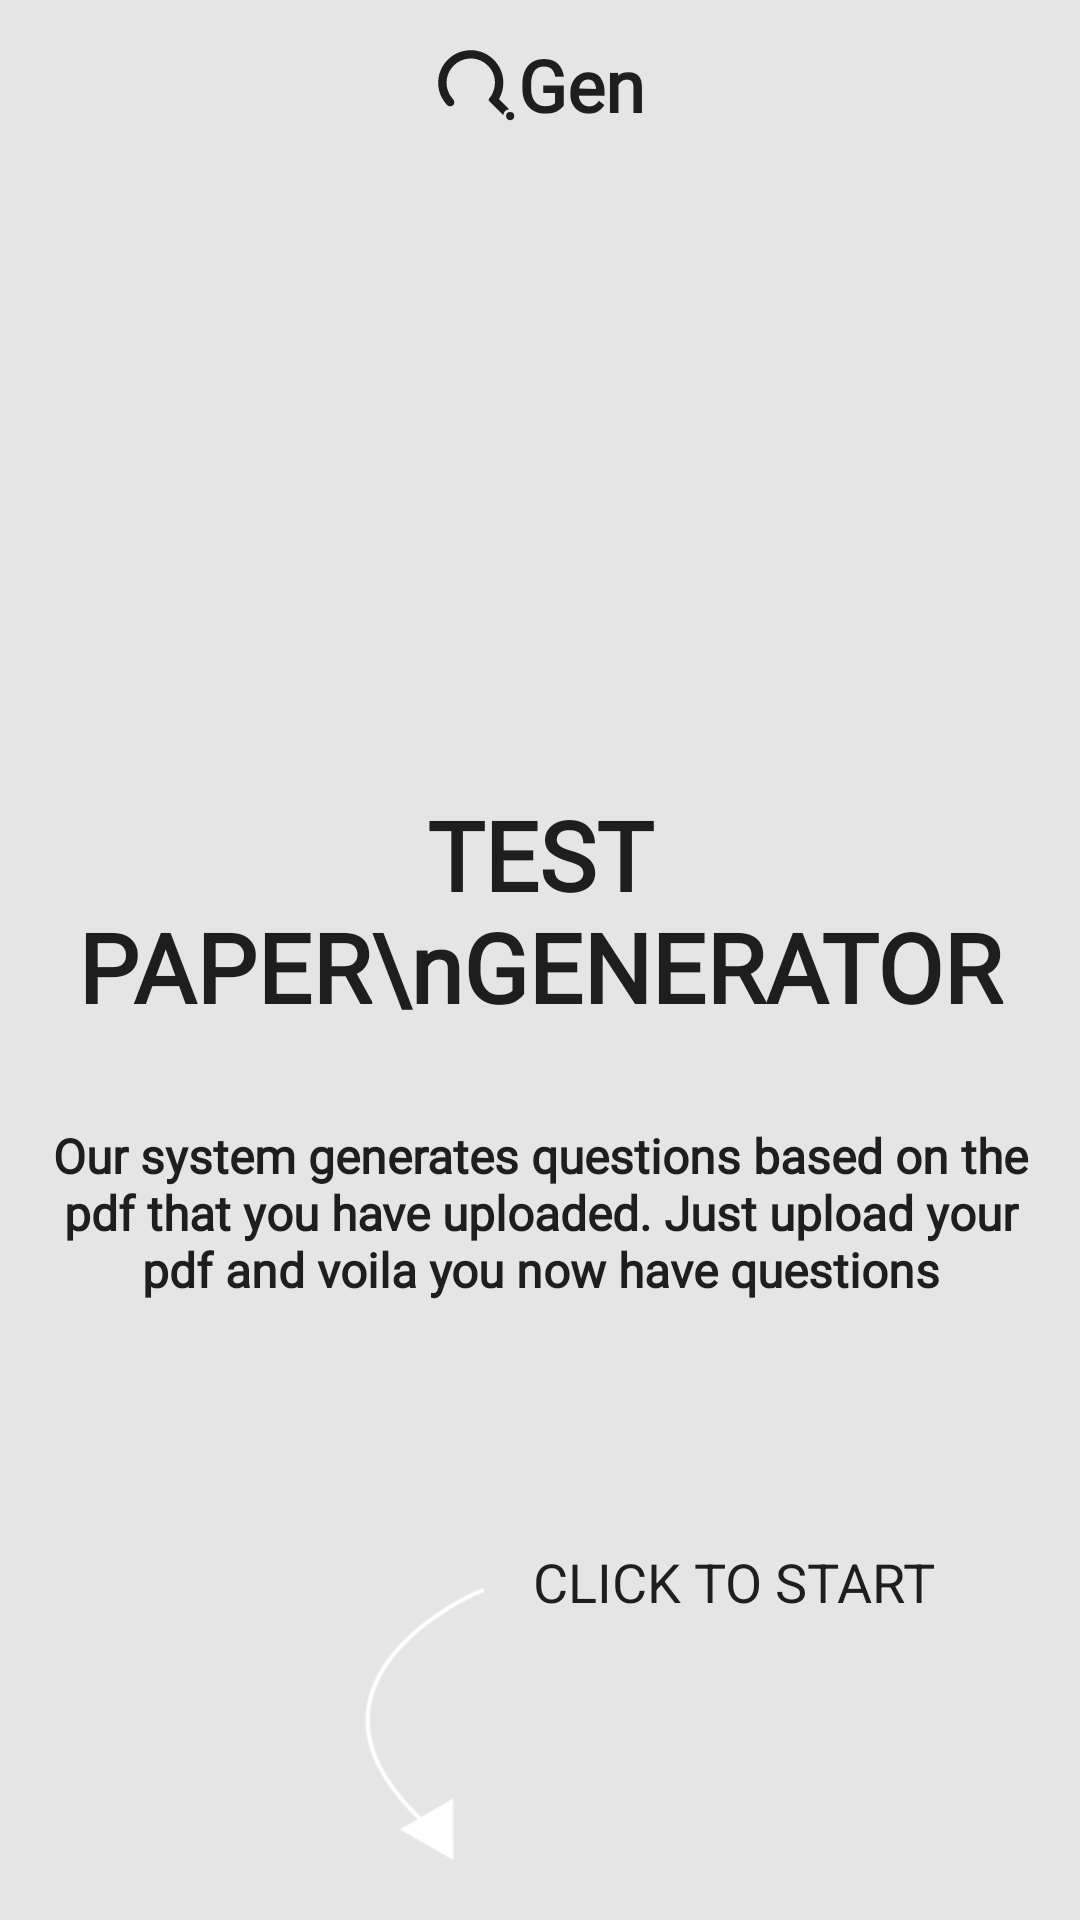

Where icons sit on this 1080w x 1920h app screen, as (x1, y1, x2, y2):
arrow: (367, 1589, 483, 1858)
